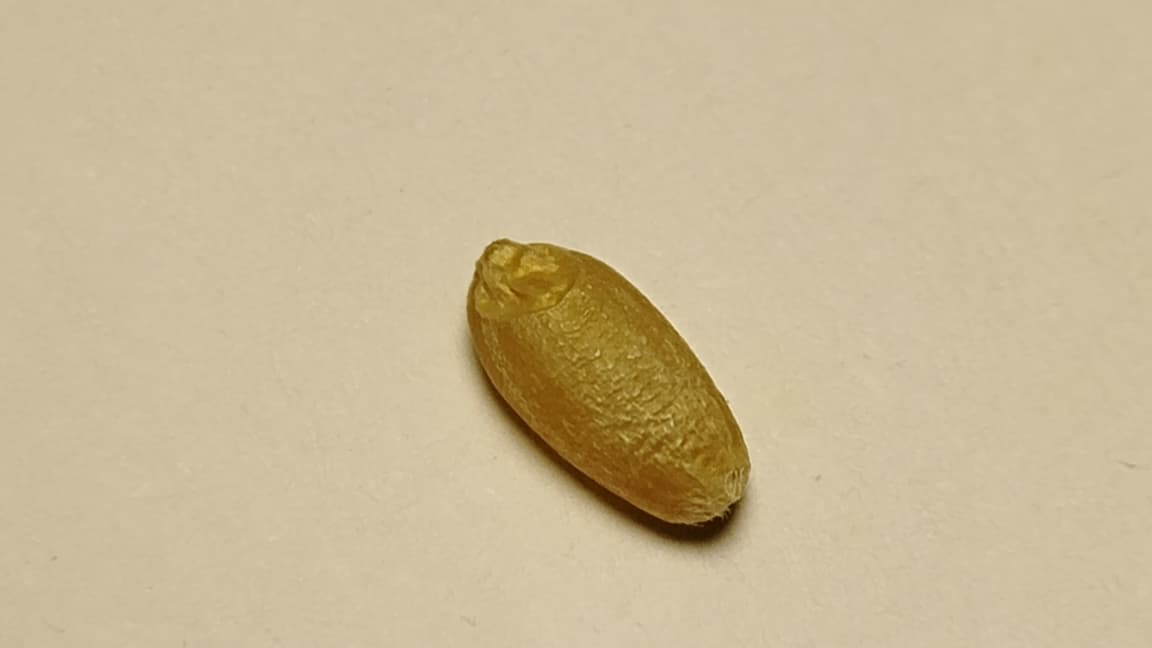healthy: (468, 239, 748, 522)
